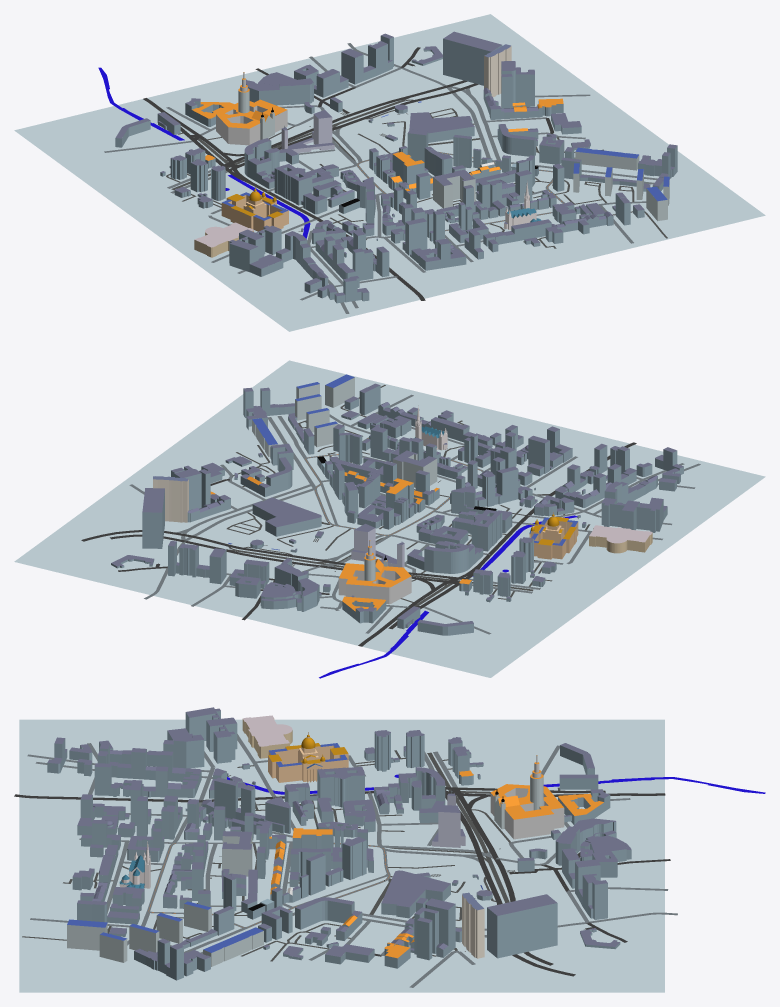
Rendered from poughkeepsie-sierra3.gltf.
The picture shows the model from 3 angles, top to bottom: view 1: azimuth 30°, elevation 25°; view 2: azimuth 150°, elevation 25°; view 3: azimuth 270°, elevation 25°; orthographic projection. The views are drawn at different scales.
Parts seen in each view (by area): view 1: Plane, map_5.osm_buildings, map_5.osm_roads_residential, map_5.osm_roads_primary, map_5.osm_roads_service, map_5.osm_roads_secondary, map_5.osm_water; view 2: Plane, map_5.osm_buildings, map_5.osm_roads_residential, map_5.osm_roads_primary, map_5.osm_roads_service, map_5.osm_roads_secondary, map_5.osm_water, Plane.002; view 3: Plane, map_5.osm_buildings, map_5.osm_roads_residential, map_5.osm_roads_primary, map_5.osm_roads_service, map_5.osm_roads_secondary, Plane.002, map_5.osm_water, map_5.osm_roads_pedestrian.
Part boxes in pixels (<box>): Plane: <box>14,14,765,331</box>; map_5.osm_buildings: <box>115,31,677,303</box>; map_5.osm_roads_residential: <box>104,43,646,313</box>; map_5.osm_roads_primary: <box>143,80,478,300</box>; map_5.osm_roads_service: <box>166,98,667,248</box>; map_5.osm_roads_secondary: <box>167,86,657,262</box>; map_5.osm_water: <box>98,67,310,238</box>; Plane: <box>14,360,765,677</box>; map_5.osm_buildings: <box>111,374,683,635</box>; map_5.osm_roads_residential: <box>129,394,700,634</box>; map_5.osm_roads_primary: <box>81,442,636,646</box>; map_5.osm_roads_service: <box>226,385,590,606</box>; map_5.osm_roads_secondary: <box>175,416,540,593</box>; map_5.osm_water: <box>319,515,577,678</box>; Plane.002: <box>304,437,483,535</box>; Plane: <box>19,719,664,992</box>; map_5.osm_buildings: <box>47,707,631,980</box>; map_5.osm_roads_residential: <box>27,734,677,987</box>; map_5.osm_roads_primary: <box>14,787,665,976</box>; map_5.osm_roads_service: <box>22,750,560,961</box>; map_5.osm_roads_secondary: <box>79,751,493,953</box>; Plane.002: <box>147,841,390,928</box>; map_5.osm_water: <box>227,774,765,794</box>; map_5.osm_roads_pedestrian: <box>374,852,670,956</box>.
Bounding box in the file's own units: 1035 × 117 × 1205.
